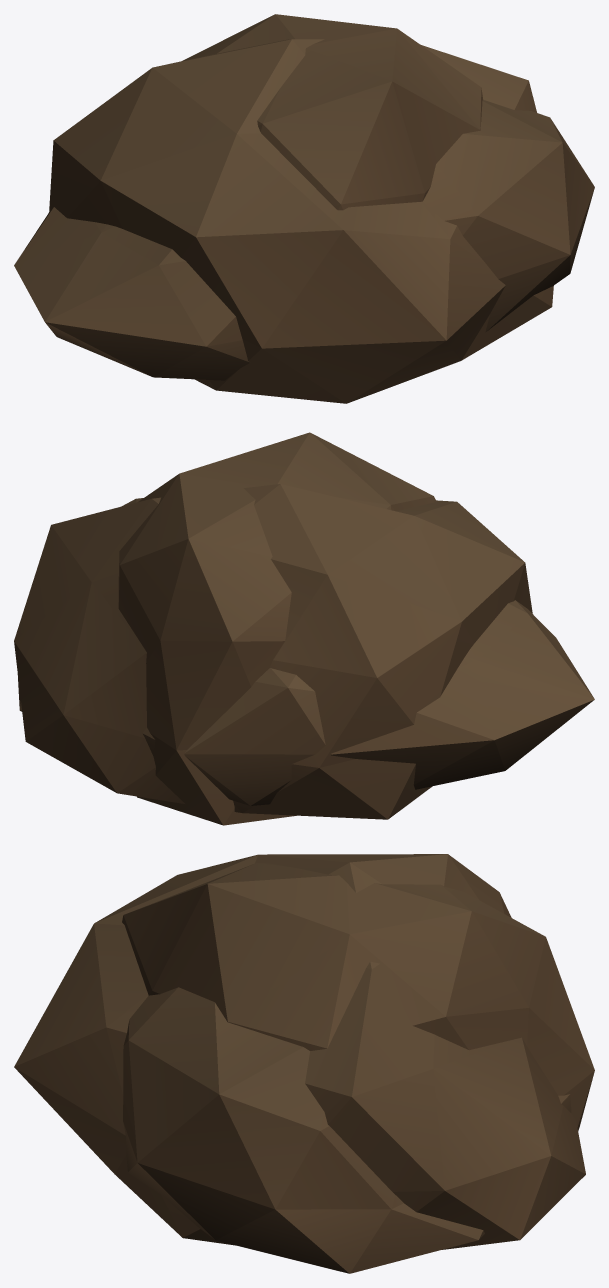
File: rocks_desert.glb
The picture shows the model from 3 angles, top to bottom: view 1: azimuth 30°, elevation 25°; view 2: azimuth 150°, elevation 25°; view 3: azimuth 270°, elevation 25°; orthographic projection. The views are drawn at different scales.
Parts seen in each view (by area): view 1: v0, v1, v2; view 2: v0, v2, v1; view 3: v0, v2, v1.
Part boxes in pixels (<box>): v0: <box>49,39,553,403</box>; v1: <box>14,100,594,380</box>; v2: <box>182,14,483,210</box>; v0: <box>14,484,532,819</box>; v2: <box>118,432,436,825</box>; v1: <box>17,498,594,805</box>; v0: <box>14,854,585,1249</box>; v2: <box>122,863,594,1130</box>; v1: <box>123,987,571,1273</box>.
Size of the model in its own units: 1.13 by 0.5509 by 0.9332.
